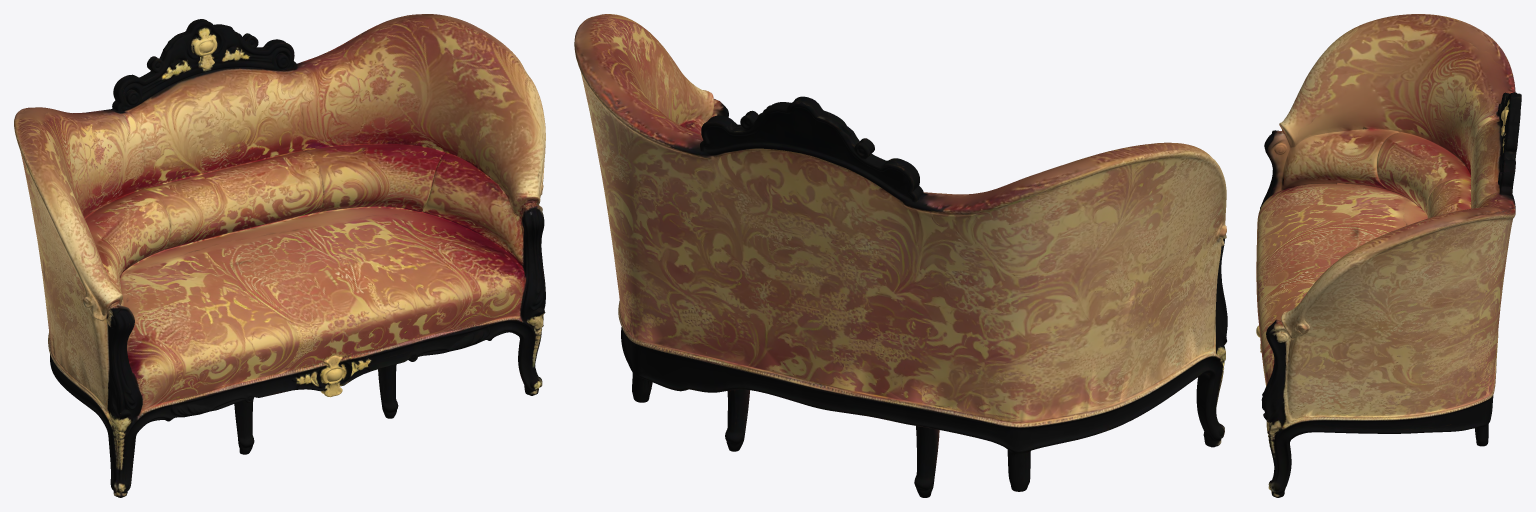
The model's file is m-sofa-realistic.glb.
3 views of the same model, side by side, from view 1: azimuth 30°, elevation 25°; view 2: azimuth 150°, elevation 25°; view 3: azimuth 270°, elevation 25° (orthographic). The views are drawn at different scales.
Parts seen in each view (by area): view 1: node_0; view 2: node_0; view 3: node_0.
Part boxes in pixels (<box>): node_0: <box>14,14,545,497</box>; node_0: <box>574,14,1227,497</box>; node_0: <box>1256,14,1521,497</box>.
Bounding box in the file's own units: 1.59 × 1.02 × 0.7919.
1 material, 1 textured.
